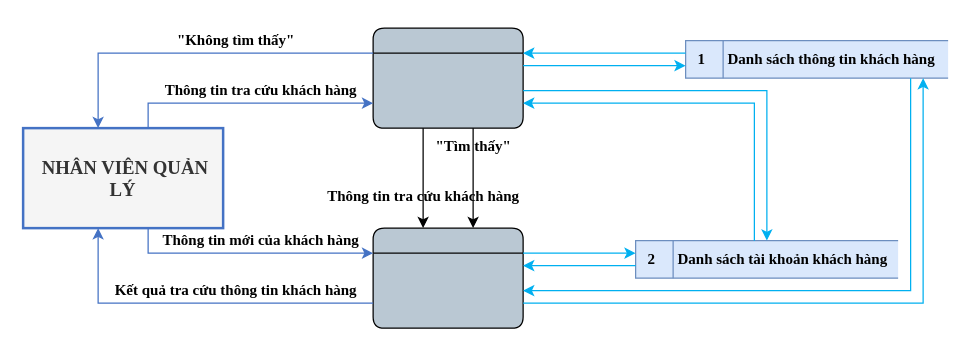
The diagram is 970 pixels wide and 351 high, and some of its shapes have lost their labels. The shapes that lost their labels are listed below. From the top down, each one's box as (x1, y1, x2, y2) in pixels, then its label:
(372, 27, 523, 128): 1.3.1 TÌM TÀI KHOẢN KHÁCH HÀNG CẦN CHỈNH SỬA
(372, 227, 523, 328): 1.3.3 CẬP NHẬT THÔNG TIN TÀI KHOẢN KHÁCH HÀNG
